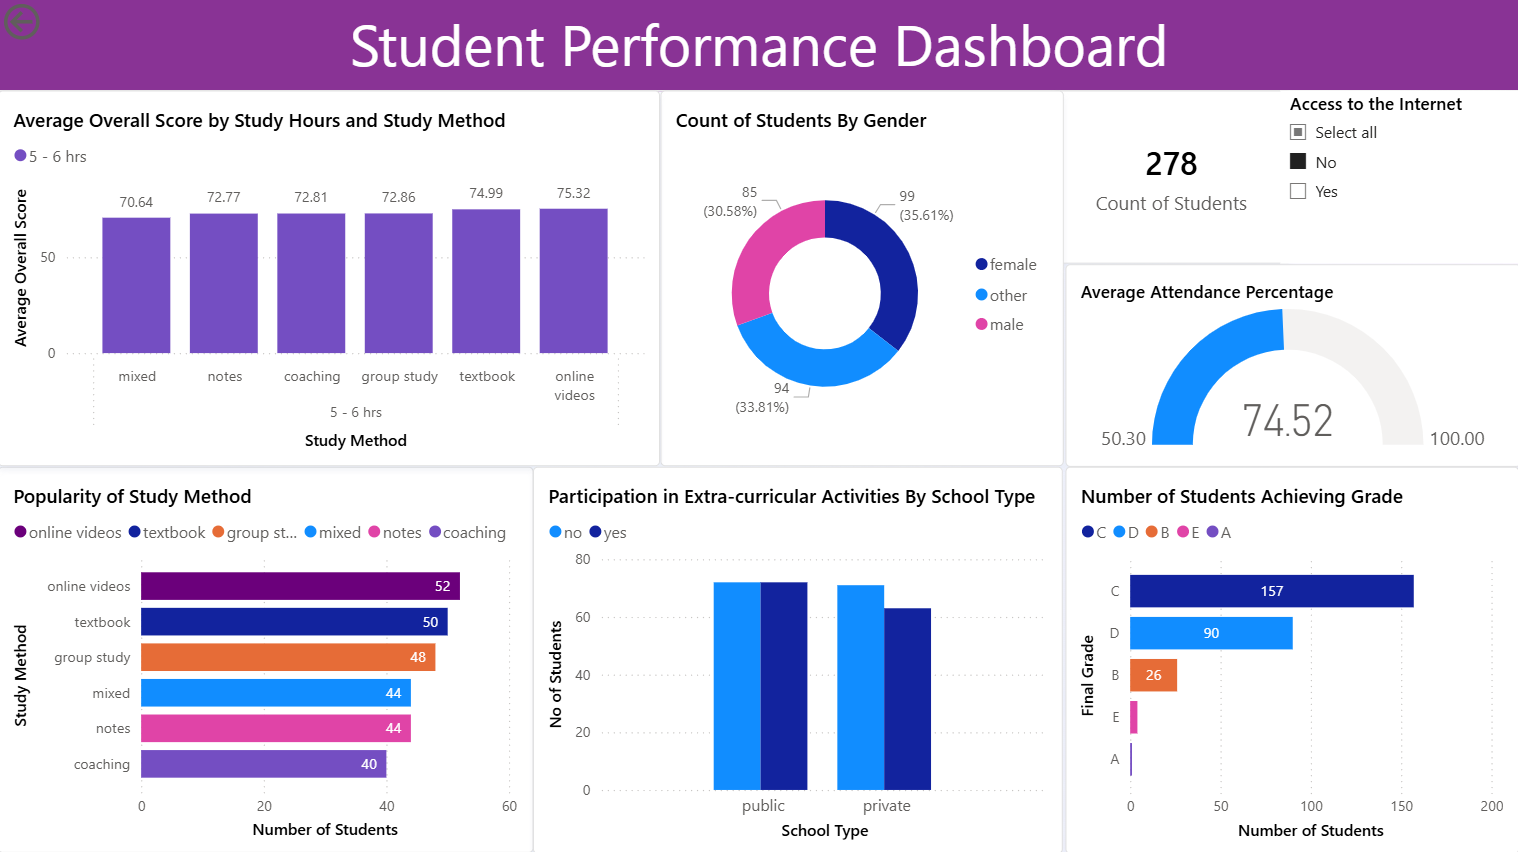

Layout of this report page (visuals, bound fields, positions):
{"tool":"powerbi","page":{"name":"Page 1","canvas":[1280,720],"ordinal":0},"visuals":[{"type":"textbox","box":[0,0,1280.3,78.2],"z":0},{"type":"card","fields":{"Values":["Count(Student_Performance (1).student_id)"]},"box":[886.5,78.2,201.7,145.5],"z":1000},{"type":"barChart","title":"Popularity of Study Method","fields":{"Y":["Count(Student_Performance (1).student_id)"],"Category":["Student_Performance (1).study_method"],"Series":["Student_Performance (1).study_method"]},"box":[0,394.3,450,325.9],"z":2000},{"type":"donutChart","title":"Count of Students By Gender","fields":{"Category":["Student_Performance (1).gender"],"Y":["Count(Student_Performance (1).student_id)"]},"box":[557.1,78.2,338.9,315.6],"z":3000},{"type":"columnChart","title":"Average Overall Score by Study Hours and Study Method","fields":{"Category":["Student_Performance (1).study_hours_categories","Student_Performance (1).study_method"],"Y":["Avg(Student_Performance (1).overall_score)"],"Series":["Student_Performance (1).study_hours_categories"]},"box":[0,78.2,557.1,315.6],"z":4000},{"type":"actionButton","box":[0,0,100,40],"z":5000},{"type":"gauge","title":"Average Attendance Percentage","fields":{"Y":["Avg(Student_Performance (1).attendance_percentage)"],"MinValue":["Min(Student_Performance (1).attendance_percentage)"],"MaxValue":["Max(Student_Performance (1).attendance_percentage)1"]},"box":[897.4,223.7,382.8,170.2],"z":6000},{"type":"slicer","fields":{"Values":["Student_Performance (1).Internet Access (Display)"]},"box":[1078.6,78.2,201.7,145.5],"z":7000},{"type":"clusteredColumnChart","title":"Participation in Extra-curricular Activities By School Type","fields":{"Category":["Student_Performance (1).school_type"],"Series":["Student_Performance (1).extra_activities"],"Y":["Count(Student_Performance (1).student_id)"]},"box":[450.1,393.8,446,326.6],"z":8000},{"type":"barChart","title":"Number of Students Achieving Grade","fields":{"Category":["Student_Performance (1).final_grade"],"Y":["Count(Student_Performance (1).student_id)"],"Series":["Student_Performance (1).final_grade"]},"box":[897.4,393.8,381.5,326.6],"z":10000}]}

Visuals, with their boxes in screenshot pixels (x1, y1, x2, y2), scaled from the page's 1280x720 canvas onto the 1518x852 screenshot:
textbox: [0, 0, 1517, 93]
card - Count(Student_Performance (1).student_id): [1051, 93, 1291, 265]
"Popularity of Study Method" barChart: [0, 467, 534, 851]
"Count of Students By Gender" donutChart: [661, 93, 1063, 466]
"Average Overall Score by Study Hours and Study Method" columnChart: [0, 93, 661, 466]
actionButton: [0, 0, 119, 47]
"Average Attendance Percentage" gauge: [1064, 265, 1517, 466]
slicer - Student_Performance (1).Internet Access (Display): [1279, 93, 1517, 265]
"Participation in Extra-curricular Activities By School Type" clusteredColumnChart: [534, 466, 1063, 851]
"Number of Students Achieving Grade" barChart: [1064, 466, 1517, 851]
